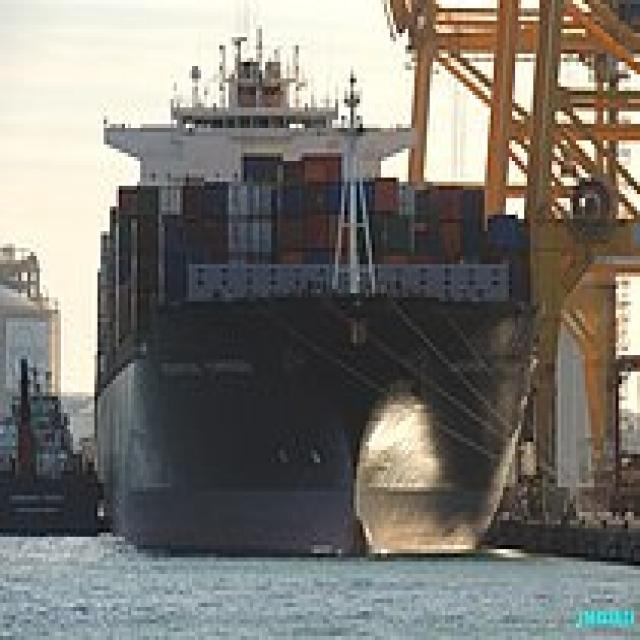Ship: (93, 30, 547, 563)
